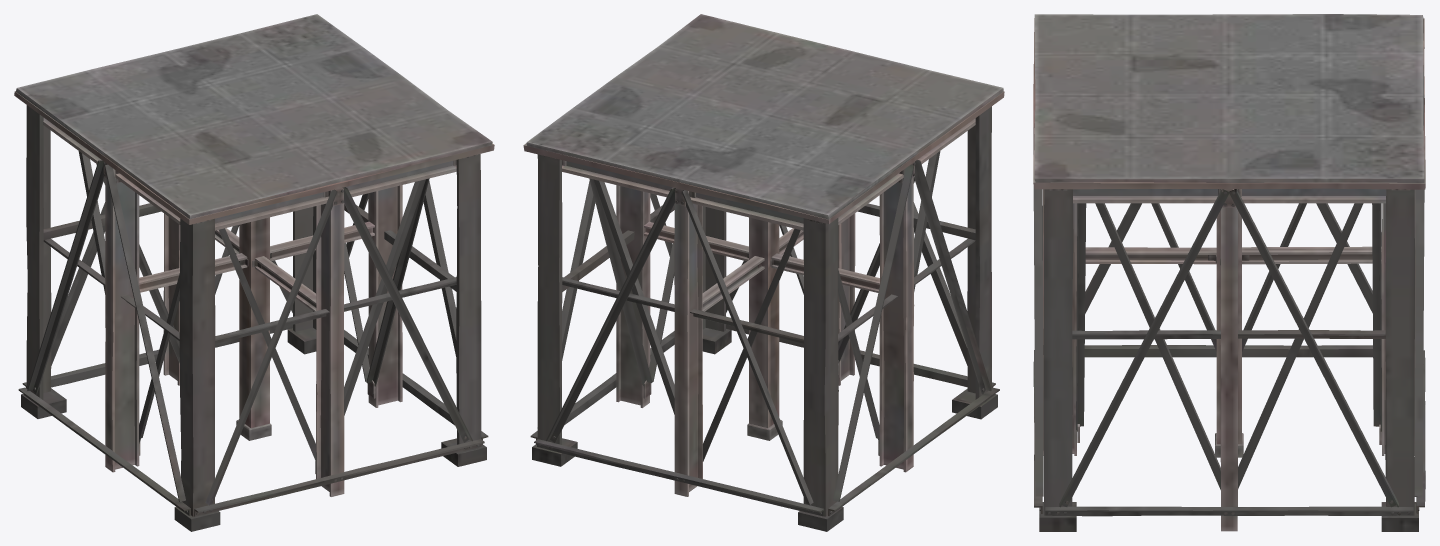
Rendered from SM_Floor_Iron_0f6efc.glb.
The picture shows the model from 3 angles, left to right: view 1: azimuth 30°, elevation 25°; view 2: azimuth 150°, elevation 25°; view 3: azimuth 270°, elevation 25°; orthographic projection. The views are drawn at different scales.
Size of the model in its own units: 4.02 by 4.01 by 4.01.
1 material, 1 textured.
